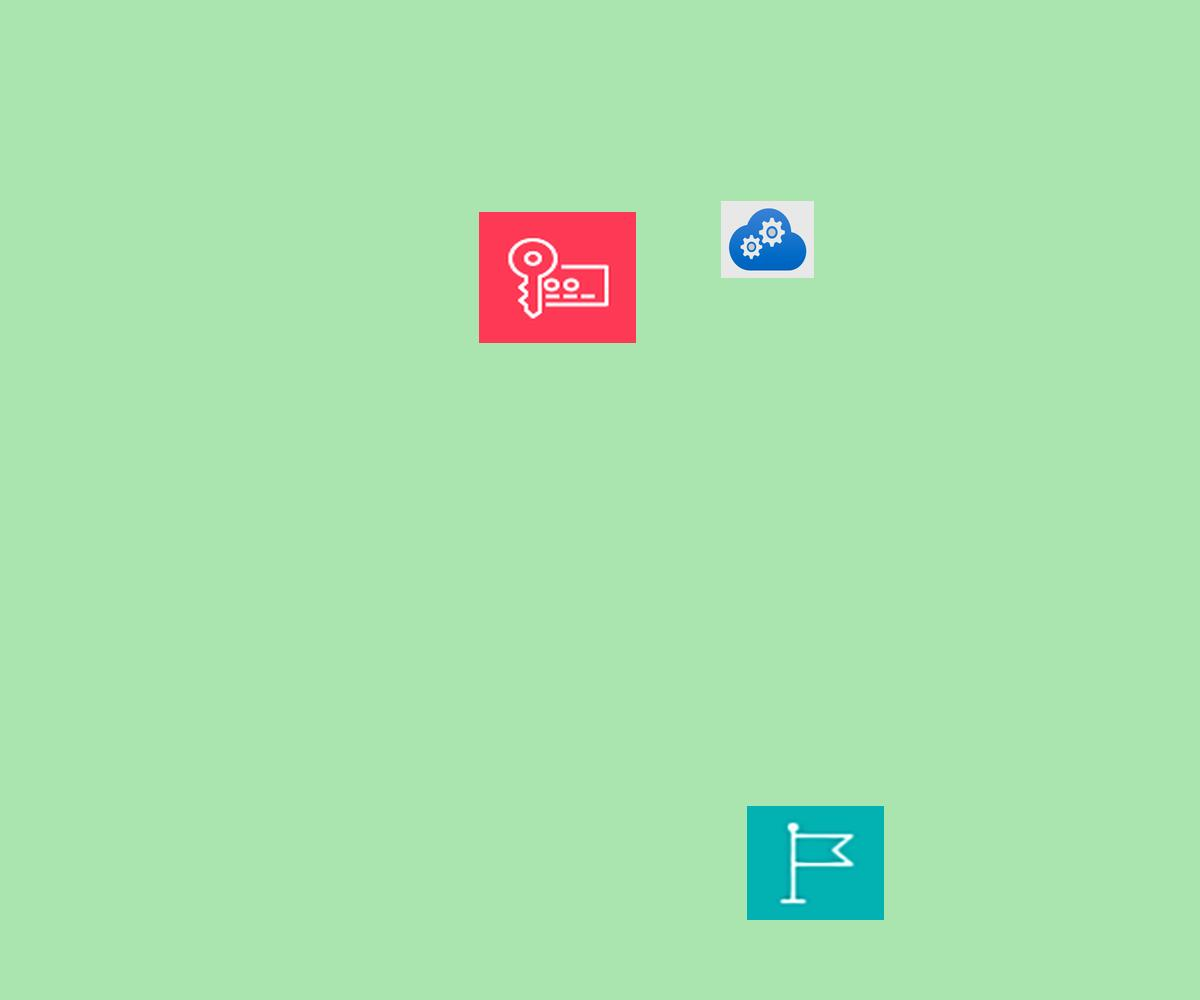AWS-Key-Management-Service: (479, 212, 636, 343)
AWS-Region: (747, 806, 884, 920)
Azure_cloud_services: (721, 201, 814, 278)
